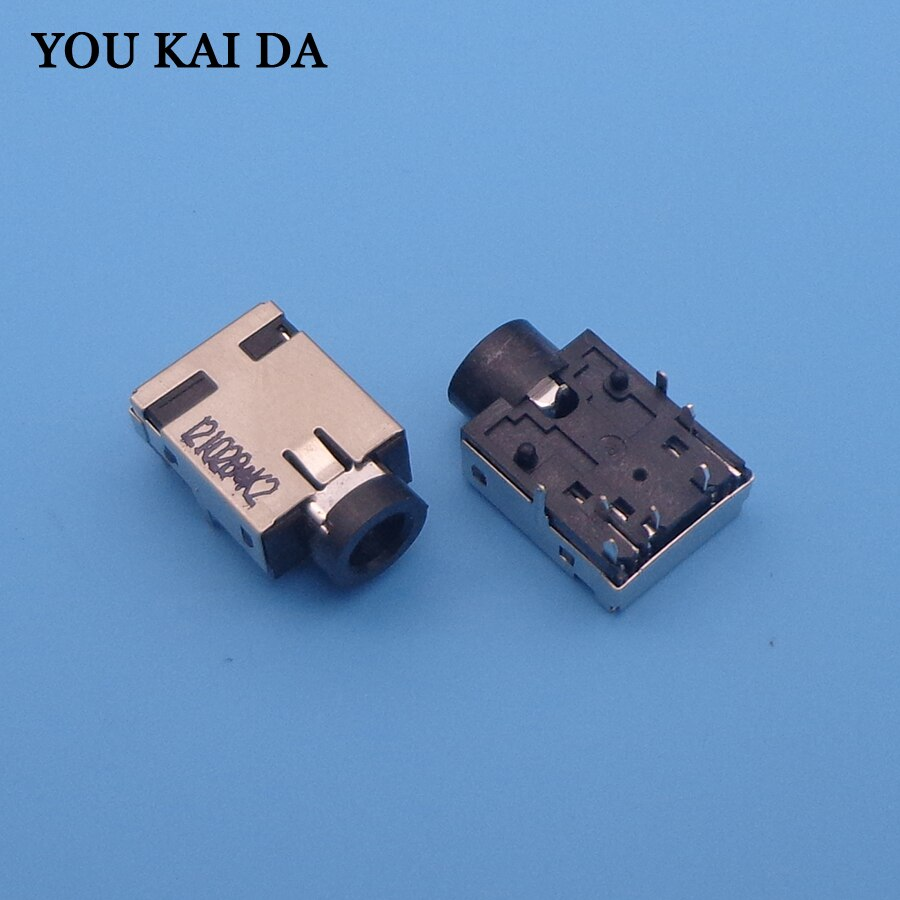aud: (115, 298, 433, 628), (446, 316, 762, 616)
